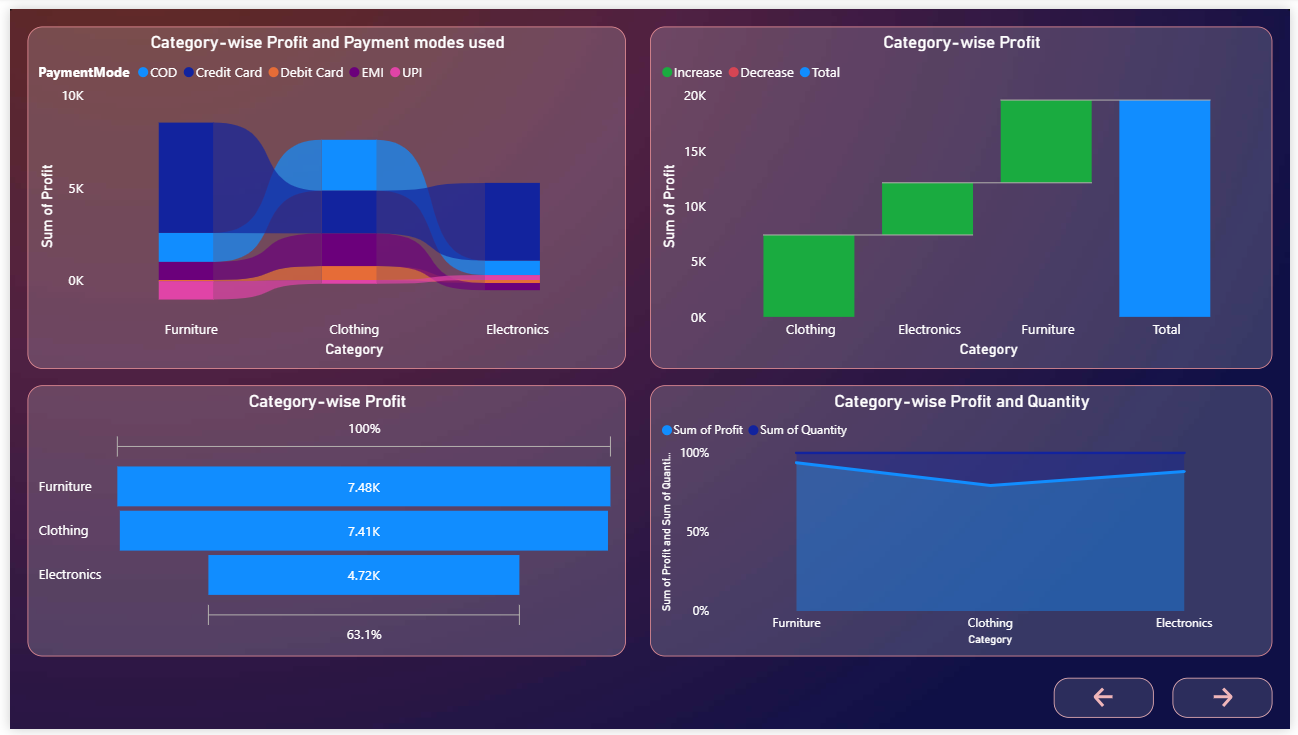

What the dashboard file says about the page in this screenshot:
{"tool":"powerbi","page":{"name":"Dashboard 5","canvas":[1280,720],"ordinal":4},"visuals":[{"type":"ribbonChart","title":"Category-wise Profit and Payment modes used","fields":{"Category":["Details.Category"],"Y":["Sum(Details.Profit)"],"Series":["Details.PaymentMode"]},"box":[17.5,17.5,598.8,342.5],"z":0},{"type":"waterfallChart","title":"Category-wise Profit","fields":{"Category":["Details.Category","Orders.Order Date.Variation.Date Hierarchy.Year"],"Y":["Sum(Details.Profit)"]},"box":[640,17.5,622.5,342.5],"z":1000},{"type":"funnel","title":"Category-wise Profit","fields":{"Category":["Details.Category"],"Y":["Sum(Details.Profit)"]},"box":[17.5,376.2,598.8,271.2],"z":2000},{"type":"hundredPercentStackedAreaChart","title":"Category-wise Profit and Quantity","fields":{"Category":["Details.Category"],"Y":["Sum(Details.Profit)","Sum(Details.Quantity)"]},"box":[640,376.2,622.5,271.2],"z":3000},{"type":"actionButton","box":[1162.5,668.8,100,40],"z":4000},{"type":"actionButton","box":[1043.8,668.8,100,40],"z":5000}]}

Visuals, with their boxes in screenshot pixels (x1, y1, x2, y2), scaled from the page's 1280x720 canvas onto the 1298x735 screenshot:
"Category-wise Profit and Payment modes used" ribbonChart: detection(18, 18, 625, 368)
"Category-wise Profit" waterfallChart: detection(649, 18, 1280, 368)
"Category-wise Profit" funnel: detection(18, 384, 625, 661)
"Category-wise Profit and Quantity" hundredPercentStackedAreaChart: detection(649, 384, 1280, 661)
actionButton: detection(1179, 683, 1280, 724)
actionButton: detection(1058, 683, 1160, 724)
